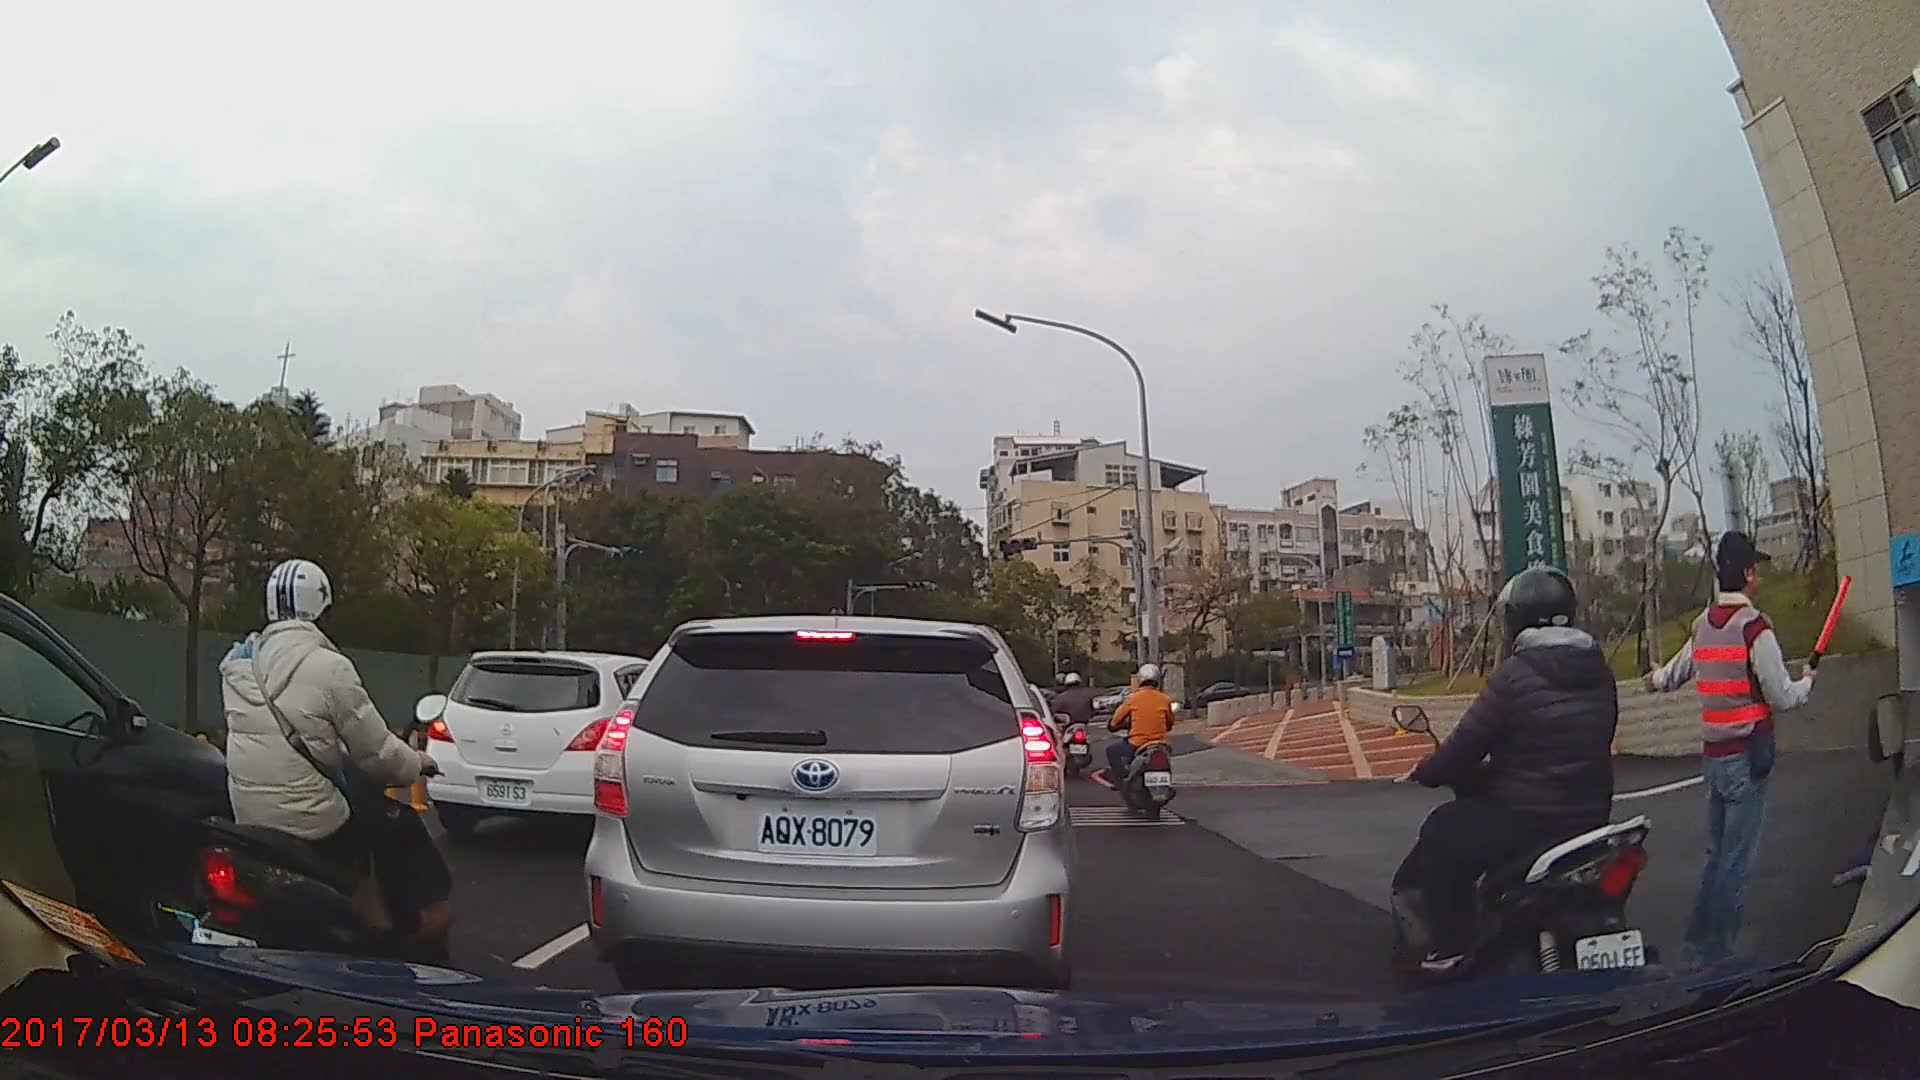pedestrian: (1637, 528, 1839, 983)
rider: (177, 558, 462, 1018), (1397, 568, 1672, 994), (1104, 658, 1183, 819), (1054, 668, 1098, 778)
vehicle: (578, 613, 1075, 989), (0, 587, 282, 953), (423, 649, 688, 841), (1183, 679, 1253, 717)
